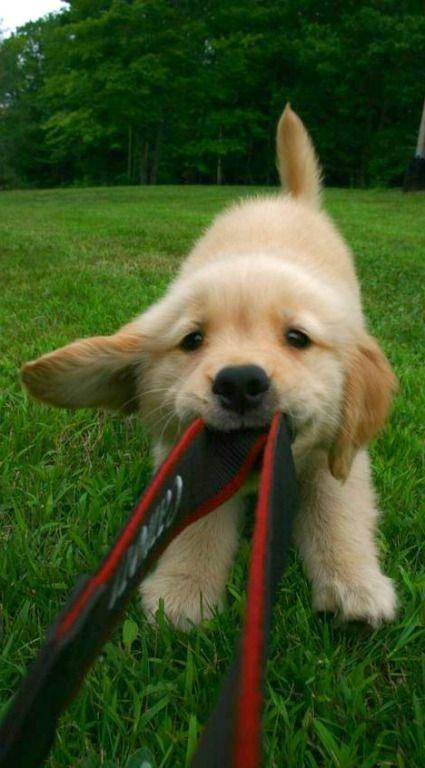puppy-dog: (20, 102, 401, 635)
